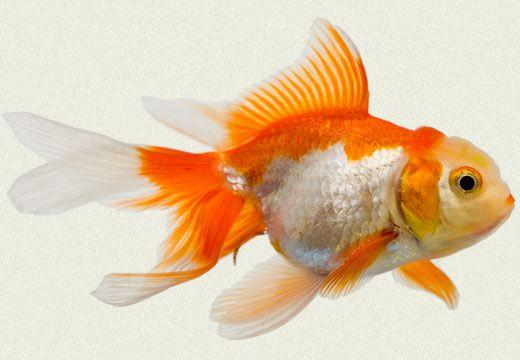goldfish: (91, 65, 517, 329)
